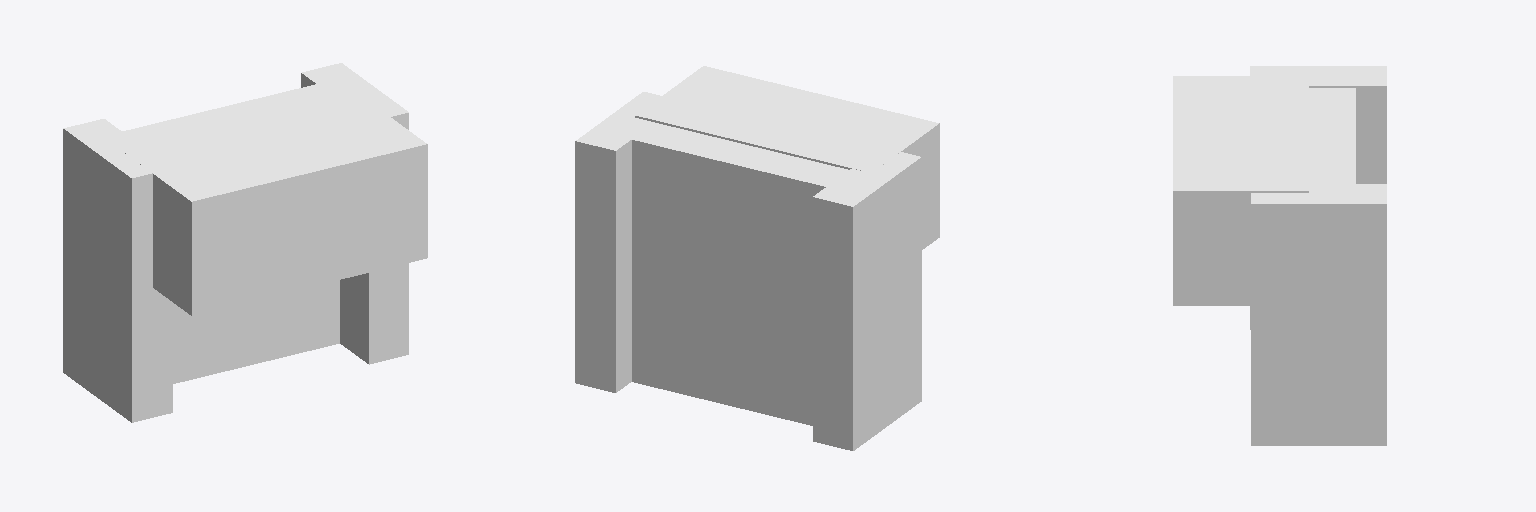
File: lauraarmchair22.obj
3 renders of one model, left to right at view 1: azimuth 30°, elevation 25°; view 2: azimuth 150°, elevation 25°; view 3: azimuth 270°, elevation 25°, orthographic.
Visible parts, largest first — view 1: Object.1, Object.4, Object.3, Object.2; view 2: Object.3, Object.4, Object.1, Object.2; view 3: Object.2, Object.1, Object.4, Object.3.
Part boxes in pixels (bbox=[...]): Object.1: bbox=[124, 94, 427, 315]; Object.4: bbox=[63, 119, 172, 422]; Object.3: bbox=[122, 82, 345, 383]; Object.2: bbox=[301, 63, 408, 364]; Object.3: bbox=[623, 120, 848, 425]; Object.4: bbox=[813, 152, 921, 450]; Object.1: bbox=[635, 66, 939, 249]; Object.2: bbox=[575, 92, 661, 392]; Object.2: bbox=[1251, 184, 1386, 445]; Object.1: bbox=[1173, 76, 1308, 305]; Object.4: bbox=[1250, 66, 1386, 329]; Object.3: bbox=[1309, 88, 1355, 183].
Bounding box in the file's own units: 0.1608 × 0.1351 × 0.1074.